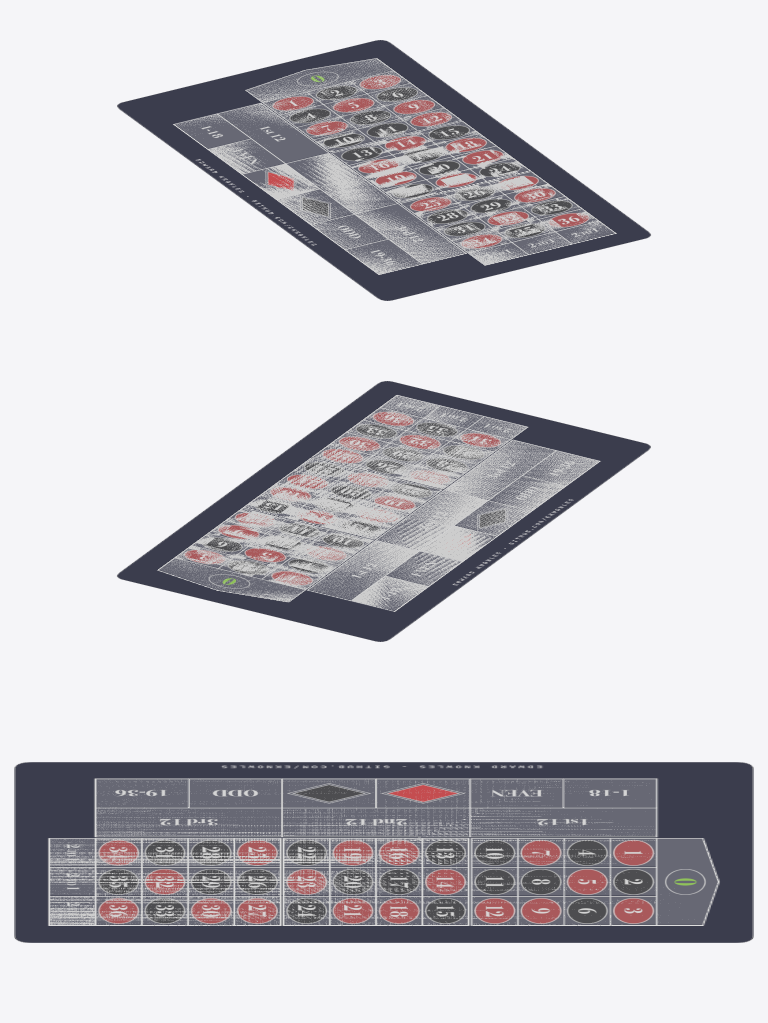
The picture shows the model from 3 angles, top to bottom: view 1: azimuth 30°, elevation 25°; view 2: azimuth 150°, elevation 25°; view 3: azimuth 270°, elevation 25°; orthographic projection. The views are drawn at different scales.
Parts seen in each view (by area): view 1: felt, H_2D, H_1D, H_3D, H_0, P_2ND_DOZEN, P_3RD_DOZEN, H_RED, H_BLACK, H_ODD, H_LAST, H_EVEN (+47 smaller); view 2: felt, H_2D, P_2ND_DOZEN, H_1D, H_3D, P_3RD_DOZEN, H_0, P_1ST_DOZEN, P_RED, H_RED, H_BLACK, H_FIRST (+51 smaller); view 3: felt, H_2D, H_3D, H_1D, H_0, H_FIRST, H_EVEN, H_RED, H_BLACK, H_LAST, H_ODD, P_2ND_DOZEN (+44 smaller).
Boxes of the visible parts, x1,y1,x2,y2 form: felt: (117,40,650,300); H_2D: (287,153,396,212); H_1D: (219,103,327,162); H_3D: (356,203,464,262); H_0: (248,58,391,101); P_2ND_DOZEN: (294,153,394,213); P_3RD_DOZEN: (356,210,464,263); H_RED: (243,164,318,198); H_BLACK: (278,189,352,223); H_ODD: (312,214,386,248); H_LAST: (346,239,420,273); H_EVEN: (209,139,283,173); felt: (117,381,650,641); H_2D: (377,490,486,549); P_2ND_DOZEN: (377,490,486,550); H_1D: (309,540,417,599); H_3D: (446,440,554,499); P_3RD_DOZEN: (445,440,554,499); H_0: (159,558,303,600); P_1ST_DOZEN: (311,541,417,599); P_RED: (420,526,494,560); H_RED: (421,526,495,560); H_BLACK: (455,501,529,534); H_FIRST: (352,576,427,610); felt: (14,762,753,942); H_2D: (283,808,468,835); H_3D: (96,808,280,835); H_1D: (471,808,655,835); H_0: (657,838,717,924); H_FIRST: (564,779,655,806); H_EVEN: (471,779,562,806); H_RED: (377,779,468,806); H_BLACK: (283,779,374,806); H_LAST: (96,779,187,806); H_ODD: (190,779,280,806); P_2ND_DOZEN: (283,808,469,836).
Size of the model in its own units: 1.35 by 1.35 by 0.00122.
2 materials, 1 textured.
